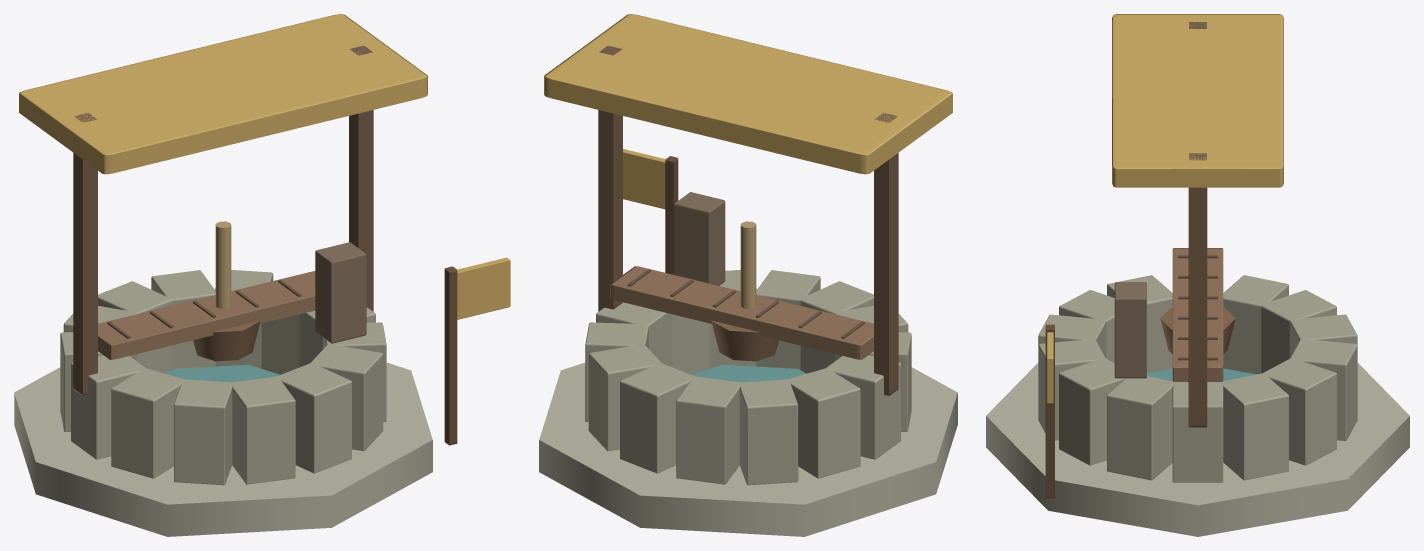
File: oldwell-3.glb
3 views of the same model, side by side, from view 1: azimuth 30°, elevation 25°; view 2: azimuth 150°, elevation 25°; view 3: azimuth 270°, elevation 25° (orthographic). The views are drawn at different scales.
Visible parts, largest first — view 1: oldwell-3-0, landmark-restored, landmark-ruin; view 2: oldwell-3-0, landmark-restored, landmark-ruin; view 3: oldwell-3-0, landmark-restored, landmark-ruin.
Part boxes in pixels (x1,y1,x2,y2): oldwell-3-0: (14,270,432,536); landmark-restored: (19,14,510,445); landmark-ruin: (98,242,366,359); oldwell-3-0: (539,270,957,536); landmark-restored: (544,14,952,396); landmark-ruin: (610,192,873,359); oldwell-3-0: (986,275,1409,536); landmark-restored: (1045,14,1283,498); landmark-ruin: (1114,248,1223,381).
Bounding box in the file's own units: 1.68 × 1.46 × 1.58.
